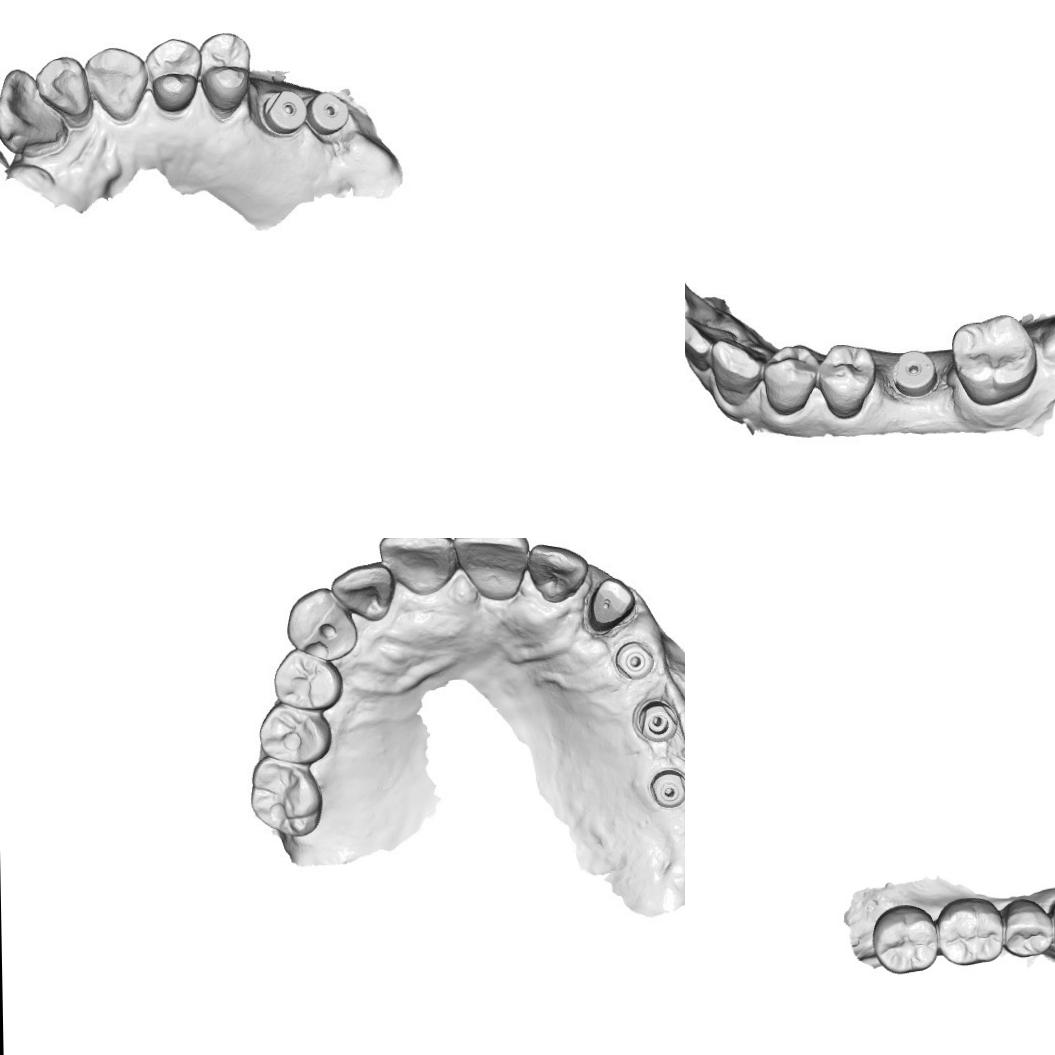canine: (86, 45, 148, 124), (287, 590, 349, 655), (712, 337, 762, 408)
crown: (589, 576, 634, 639)
implant: (631, 694, 683, 745), (303, 87, 354, 138), (892, 347, 939, 400), (260, 89, 306, 135), (649, 764, 685, 814), (616, 638, 656, 680)
incisor: (0, 64, 66, 152), (455, 538, 530, 606), (33, 53, 94, 126), (383, 538, 454, 596), (530, 544, 593, 607), (336, 566, 390, 618), (685, 316, 735, 369), (685, 273, 719, 325)
molar: (950, 316, 1034, 398), (248, 759, 322, 830), (936, 896, 1005, 968), (870, 902, 938, 975)
premolar: (762, 342, 824, 416), (202, 33, 251, 113), (820, 341, 874, 413), (259, 704, 326, 761), (151, 40, 203, 112), (271, 654, 338, 708), (1002, 897, 1055, 959)
